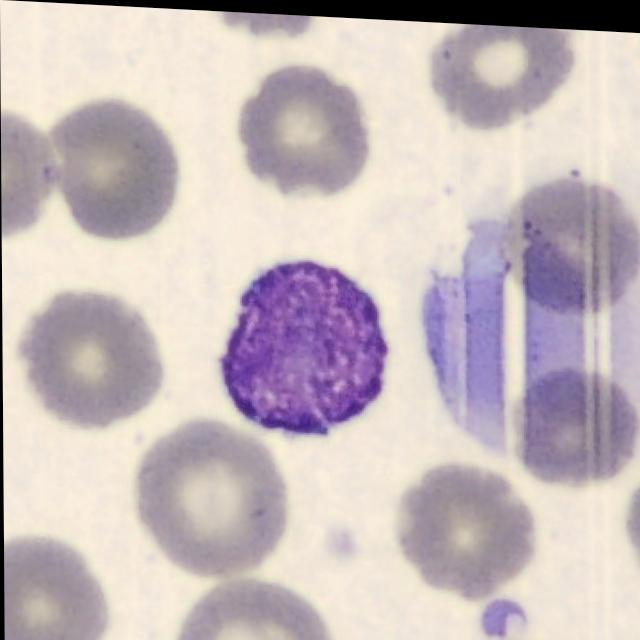Linfocito: (217, 258, 388, 436)
